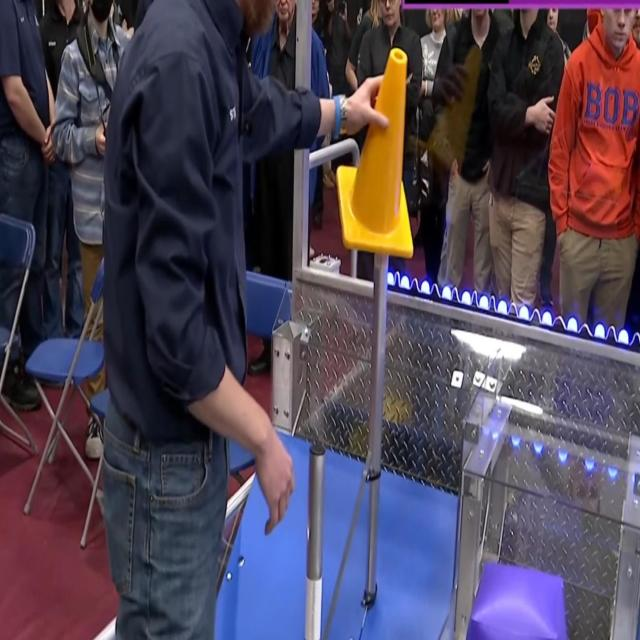frc_cone: (332, 45, 415, 258)
frc_cube: (468, 566, 566, 640)
